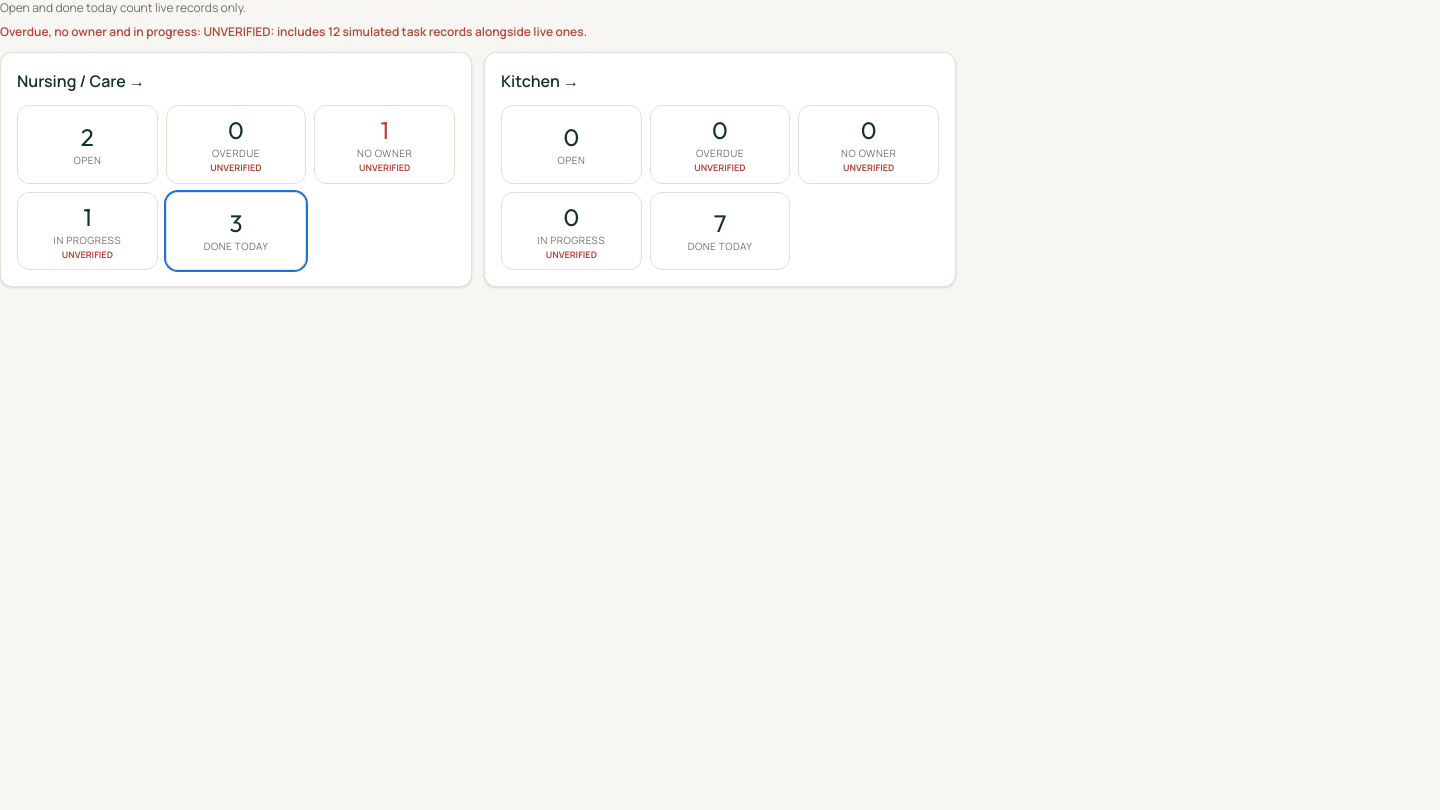
Test: ops-metric-nursing-completed_today opens exactly the records it counts
Later steps or results of the test are not shown.
Click the button "3 done today". click: (236,231)
box: left=166, top=192, right=306, bottom=270
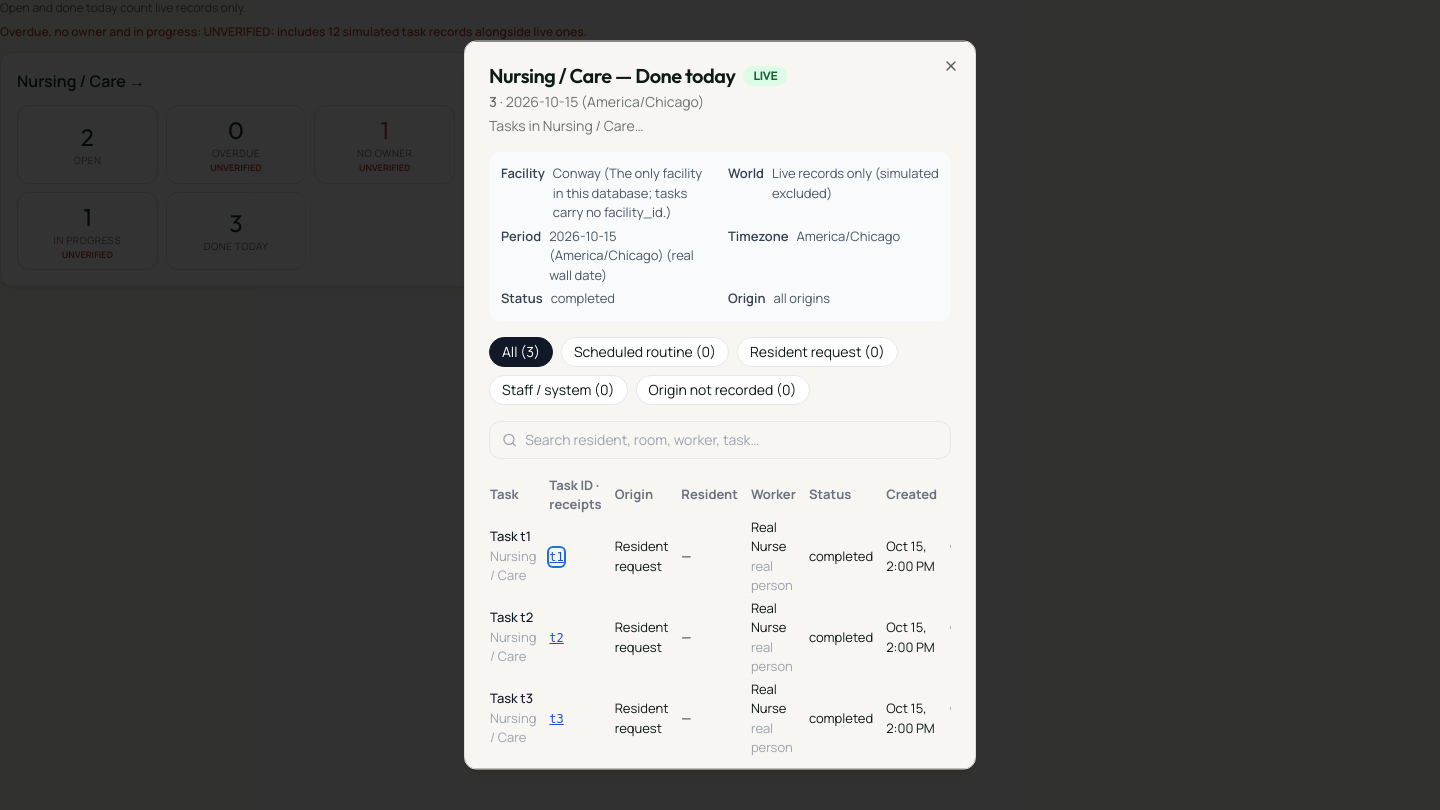
Now the number of buttons with test id "ws-record-open" is 3, box left=549, top=547, right=564, bottom=565; left=549, top=628, right=564, bottom=646; left=549, top=709, right=564, bottom=727
Now the element with test id "ws-disclosure" shows "Conway", box left=553, top=164, right=702, bottom=220
Now the element with test id "ws-disclosure" shows "Live records only", box left=772, top=164, right=939, bottom=201
